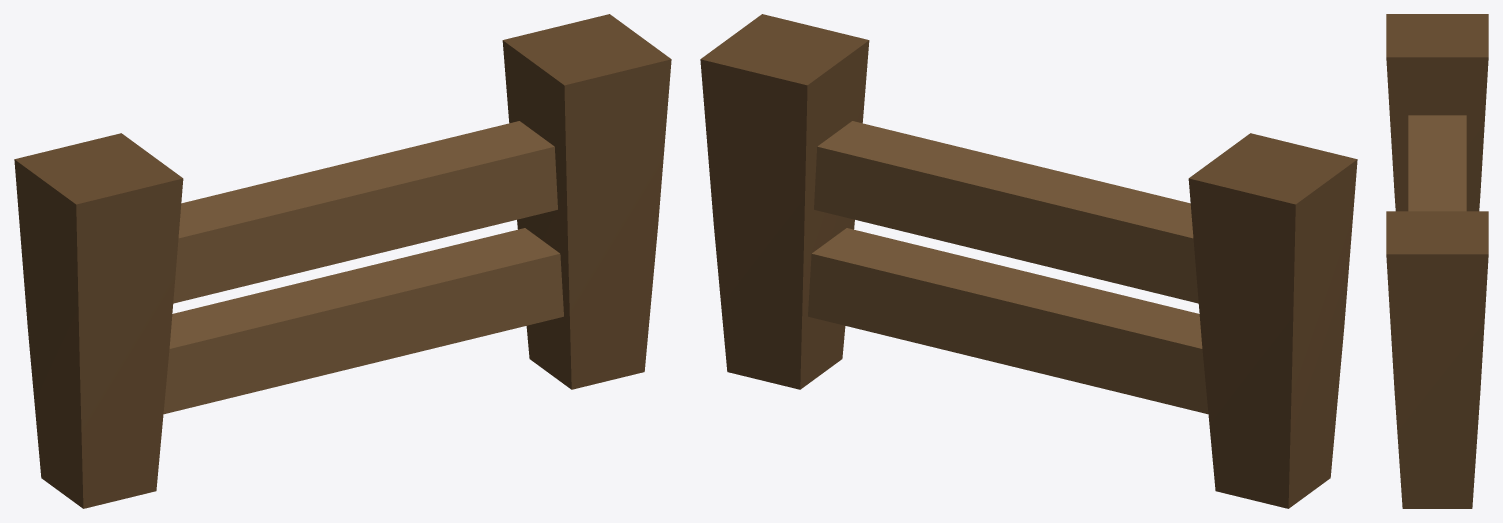
The model's file is Fence_01.fbx.
3 renders of one model, left to right at view 1: azimuth 30°, elevation 25°; view 2: azimuth 150°, elevation 25°; view 3: azimuth 270°, elevation 25°, orthographic. The views are drawn at different scales.
Visible parts, largest first — view 1: Fence_01; view 2: Fence_01; view 3: Fence_01.
Part boxes in pixels (x1,y1,x2,y2): Fence_01: (14, 14, 671, 508); Fence_01: (700, 14, 1357, 508); Fence_01: (1386, 14, 1488, 508).
Size of the model in its own units: 1.95 by 0.989 by 0.3511.
